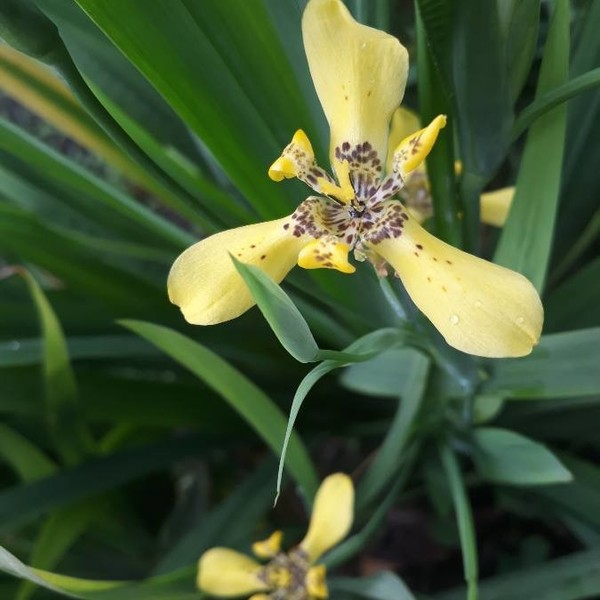obstacle: (174, 38, 530, 555)
